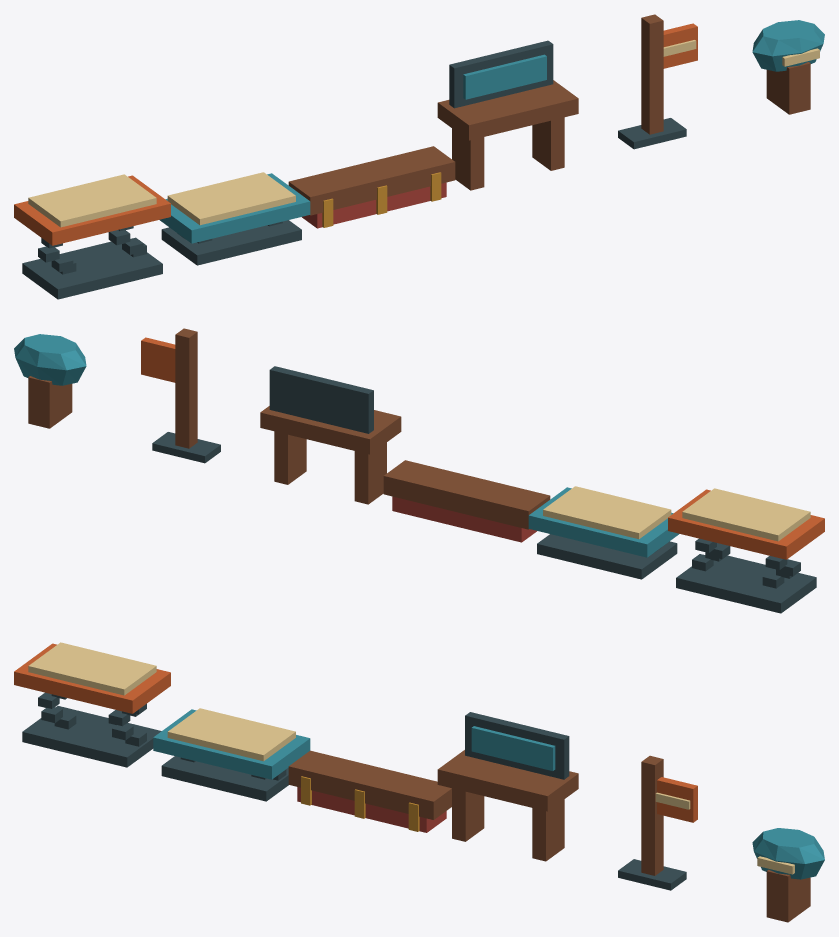
File: nat-xilonen-course-model.obj
The picture shows the model from 3 angles, top to bottom: view 1: azimuth 30°, elevation 25°; view 2: azimuth 150°, elevation 25°; view 3: azimuth 330°, elevation 25°; orthographic projection.
Parts seen in each view (by area): view 1: TestCourse; view 2: TestCourse; view 3: TestCourse.
Part boxes in pixels (bbox=[...]): TestCourse: bbox=[14, 14, 824, 299]; TestCourse: bbox=[14, 328, 824, 613]; TestCourse: bbox=[14, 642, 824, 922].
Size of the model in its own units: 8.07 by 1.15 by 0.68.
